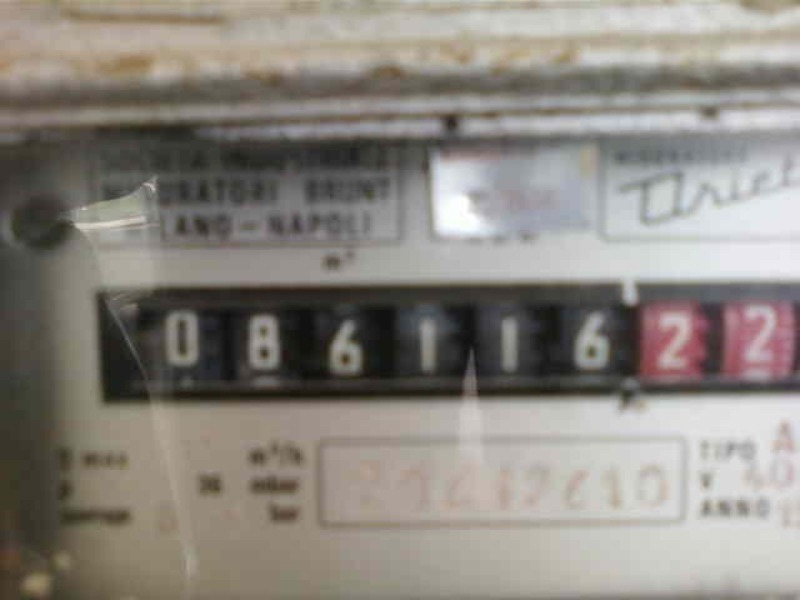ssgc: (124, 287, 797, 391)
